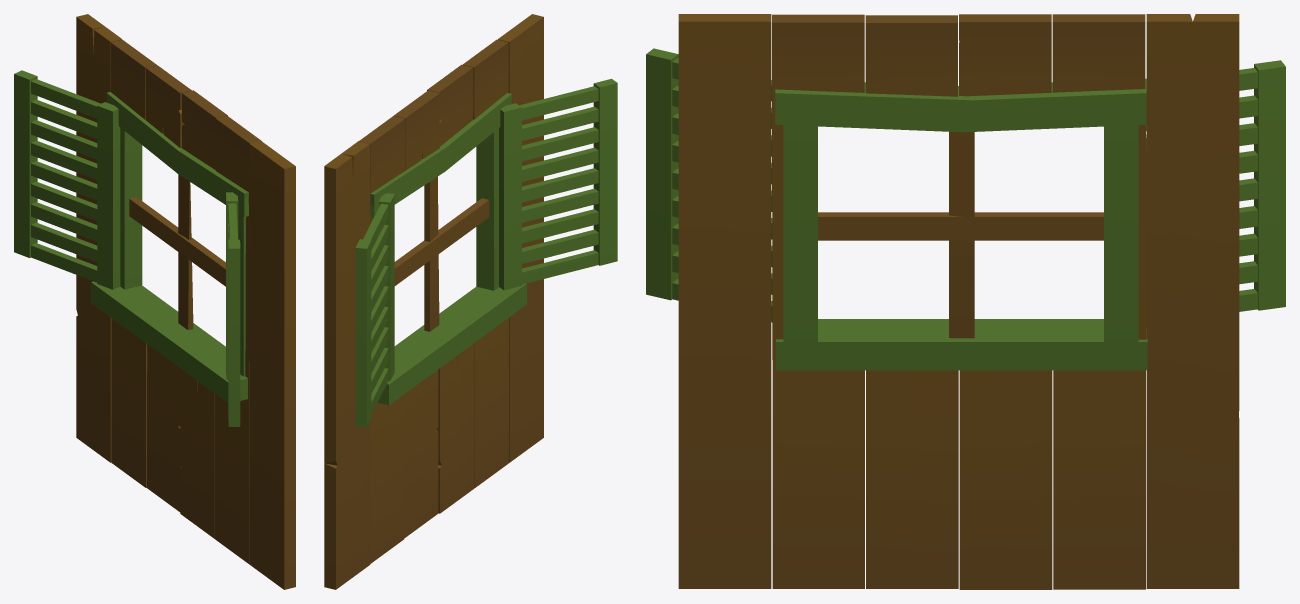
Rendered from WindowWoodenWall2.fbx.
The picture shows the model from 3 angles, left to right: view 1: azimuth 30°, elevation 25°; view 2: azimuth 150°, elevation 25°; view 3: azimuth 270°, elevation 25°; orthographic projection. The views are drawn at different scales.
Parts seen in each view (by area): view 1: Wall.001, Window, WindowDoorL, WindowDoorR; view 2: Wall.001, WindowDoorR, Window, WindowDoorL; view 3: Wall.001, Window, WindowDoorL, WindowDoorR.
Boxes of the visible parts, x1,y1,x2,y2 form: Wall.001: [76, 14, 295, 589]; Window: [91, 92, 248, 402]; WindowDoorL: [14, 70, 120, 289]; WindowDoorR: [226, 192, 240, 426]; Wall.001: [324, 14, 543, 589]; WindowDoorR: [499, 78, 617, 290]; Window: [370, 93, 526, 405]; WindowDoorL: [355, 193, 394, 427]; Wall.001: [678, 14, 1239, 589]; Window: [775, 78, 1147, 370]; WindowDoorL: [1146, 60, 1285, 311]; WindowDoorR: [646, 48, 772, 322].
Bounding box in the file's own units: 39.13 × 190 × 194.
